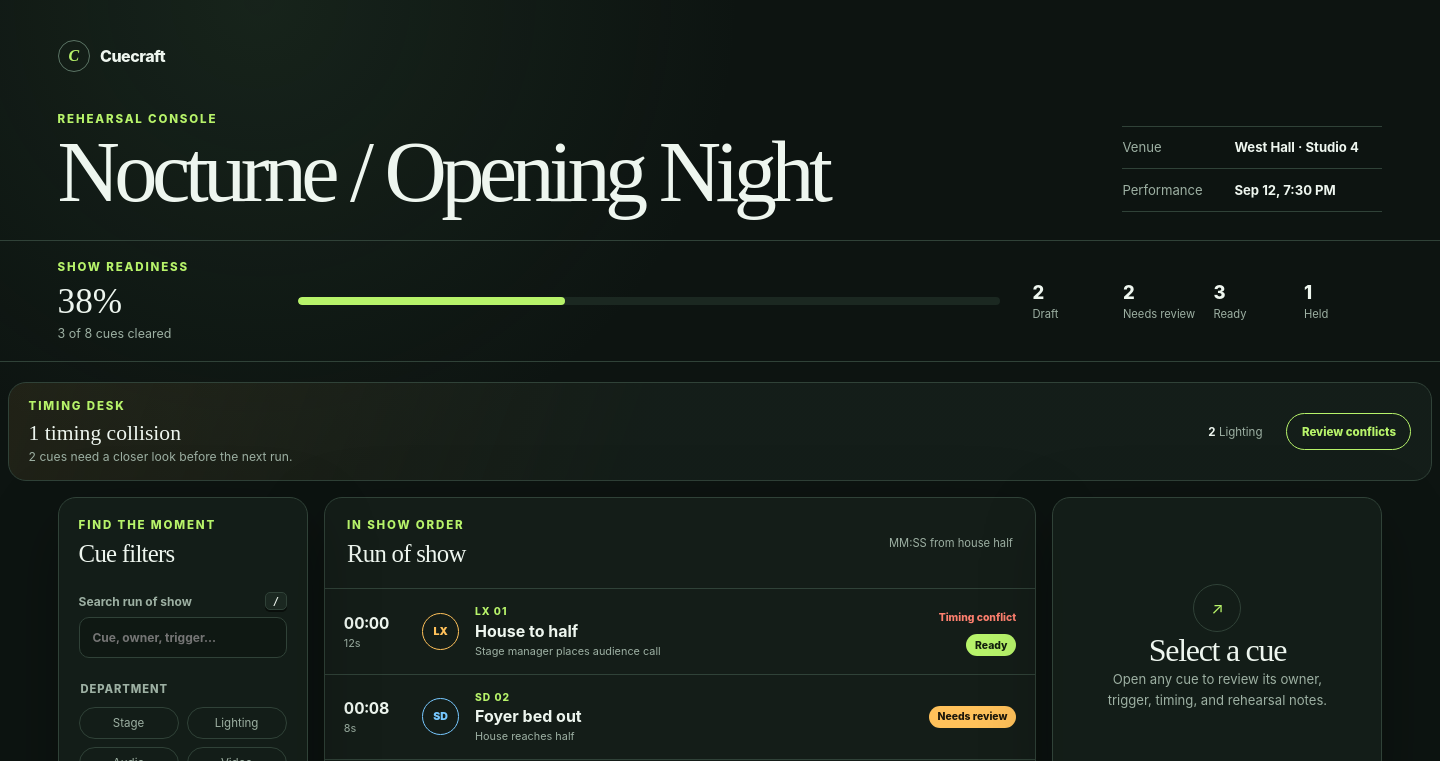
Test case: Cuecraft workspace › shows an actionable empty state
Type "not a real cue" into the search field labelled "Search run of show".
click(183, 638); type("not a real cue")  # box [79,617,287,658]
(page scrolled)
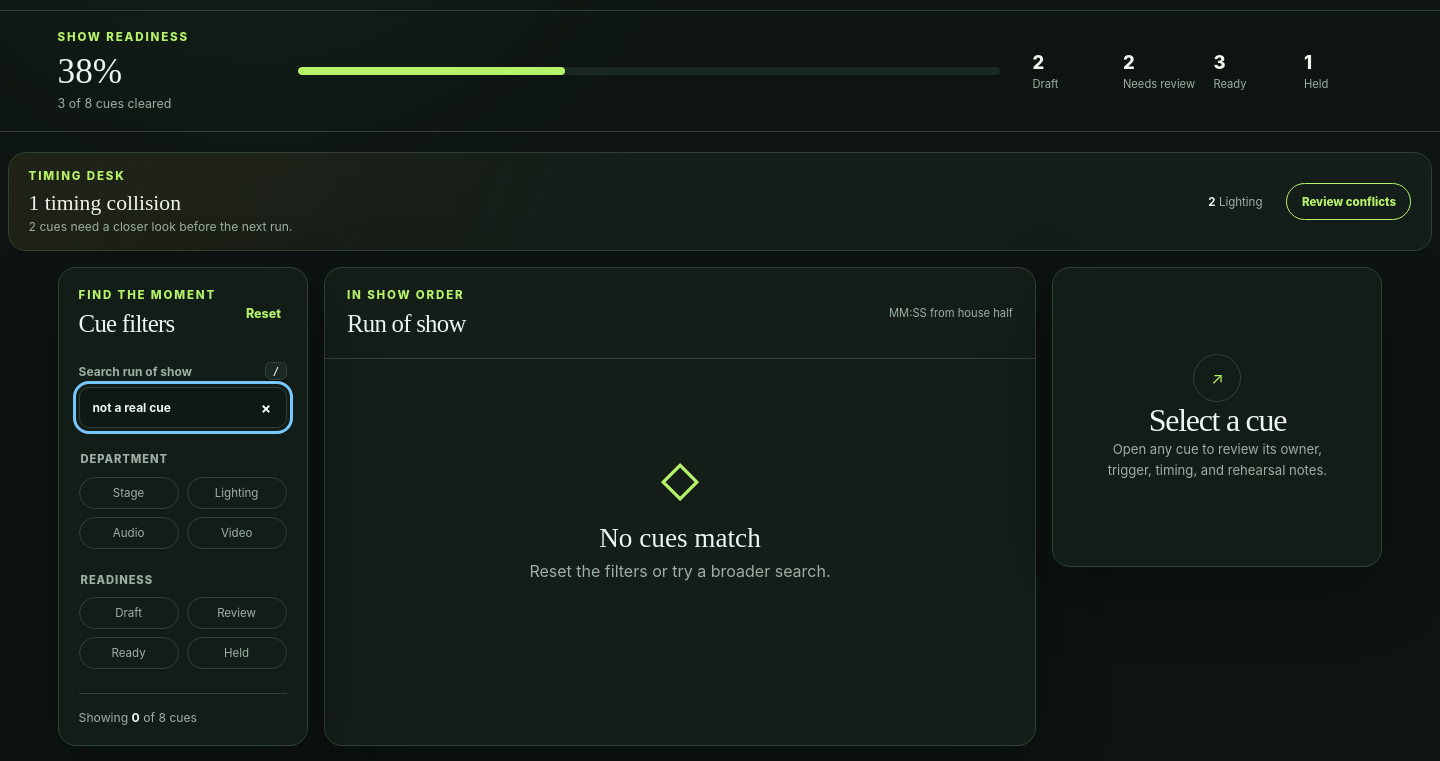
Result: the heading "No cues match" is shown at [599,523,761,554]
Result: the message reads "Showing 0 of 8 cues" at [79,693,287,725]
